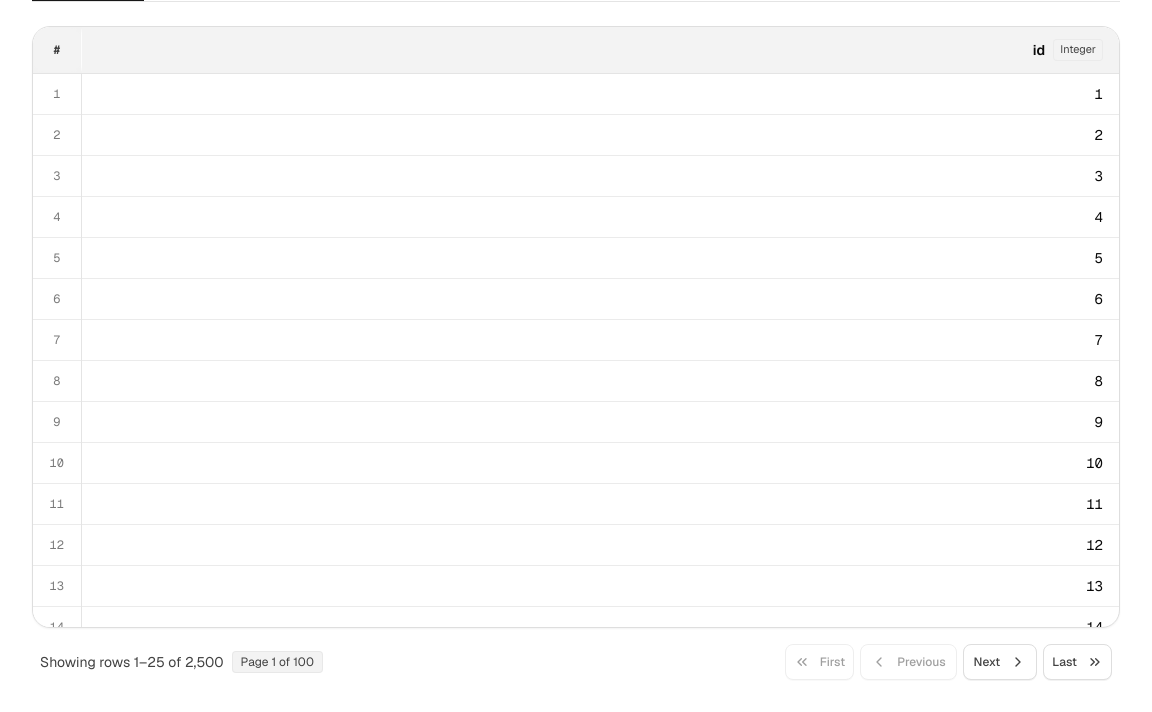
Scenario: M2 Dataset Experience › DatasetDetailPage › supports full-dataset server-side pagination with First, Previous, Next, and Last controls
(page scrolled)
Expected: the text "Showing rows 1–25 of 2,500" is shown, [40,652,224,672]
Expected: the text "Page 1 of 100" is shown, [232,651,323,673]
Click the button with aria-label "next page".
click(1000, 662)  # box [963,644,1037,680]
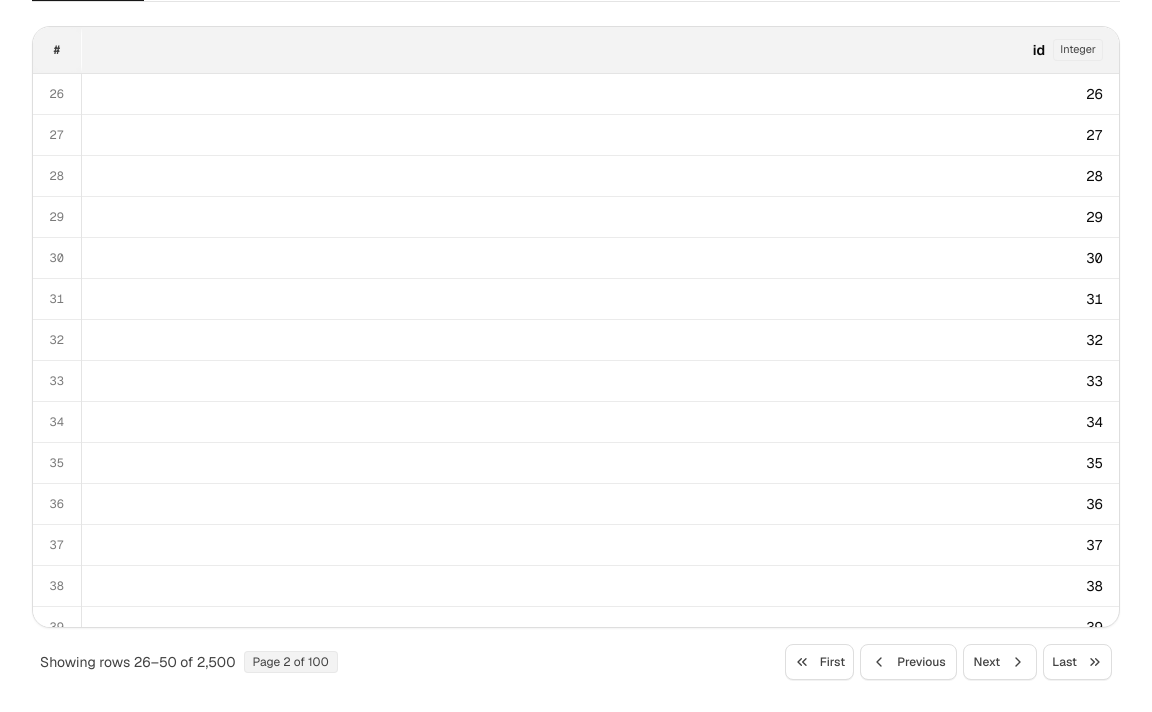
Now the text "Showing rows 26–50 of 2,500" is shown, box [40,652,236,672]
Now the text "Page 2 of 100" is shown, box [244,651,338,673]
Click the button with aria-label "last page".
click(1078, 662)  # box [1043,644,1112,680]
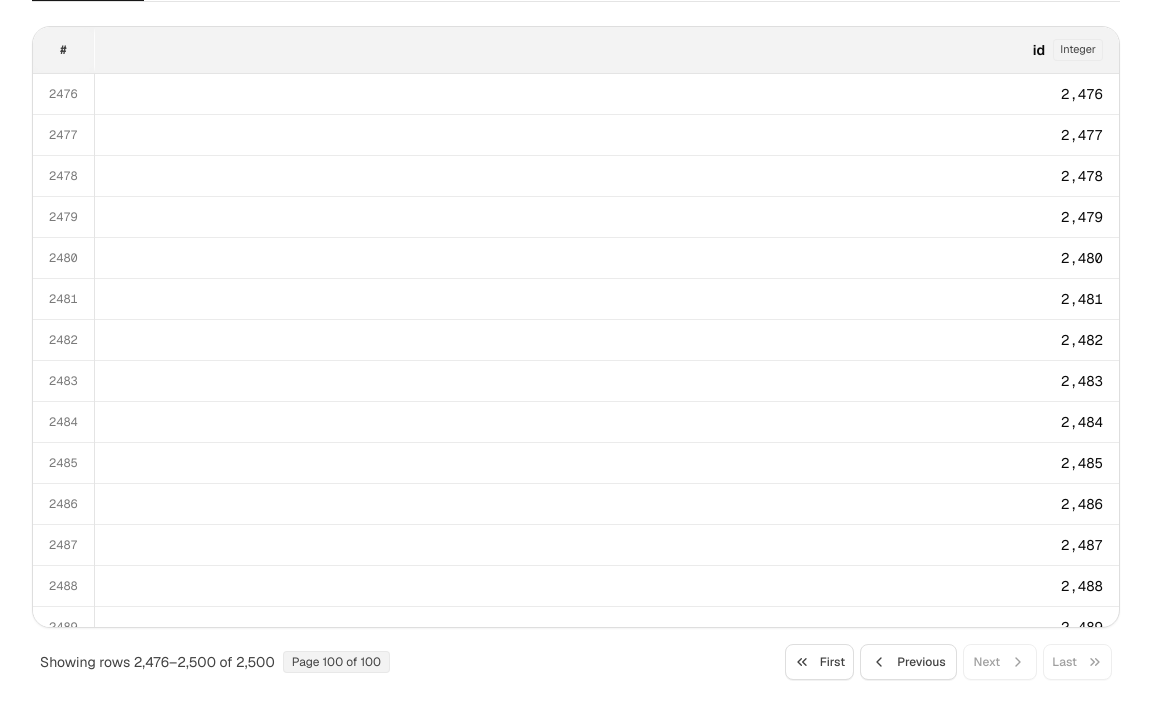
Now the text "Showing rows 2,476–2,500 of 2,500" is shown, box [40,652,275,672]
Now the text "Page 100 of 100" is shown, box [283,651,390,673]
Now the button with aria-label "next page" is disabled, box [963,644,1037,680]
Click the button with aria-label "first page".
click(819, 662)  # box [785,644,854,680]
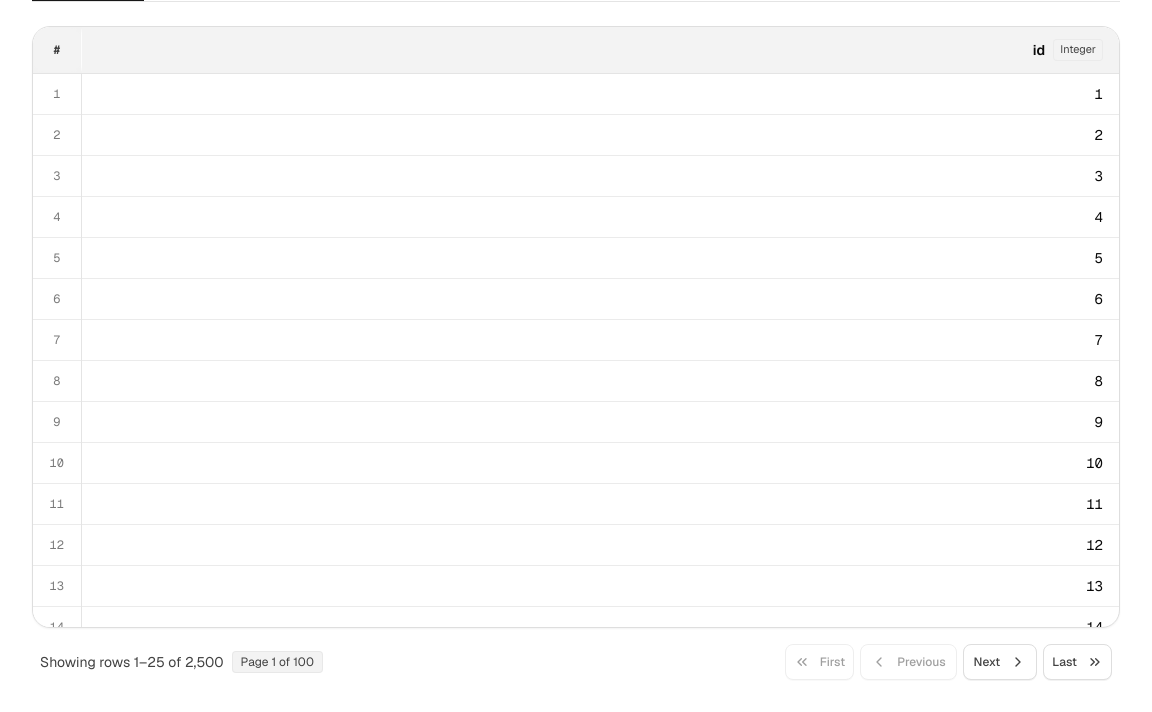
Now the text "Showing rows 1–25 of 2,500" is shown, box [40,652,224,672]
